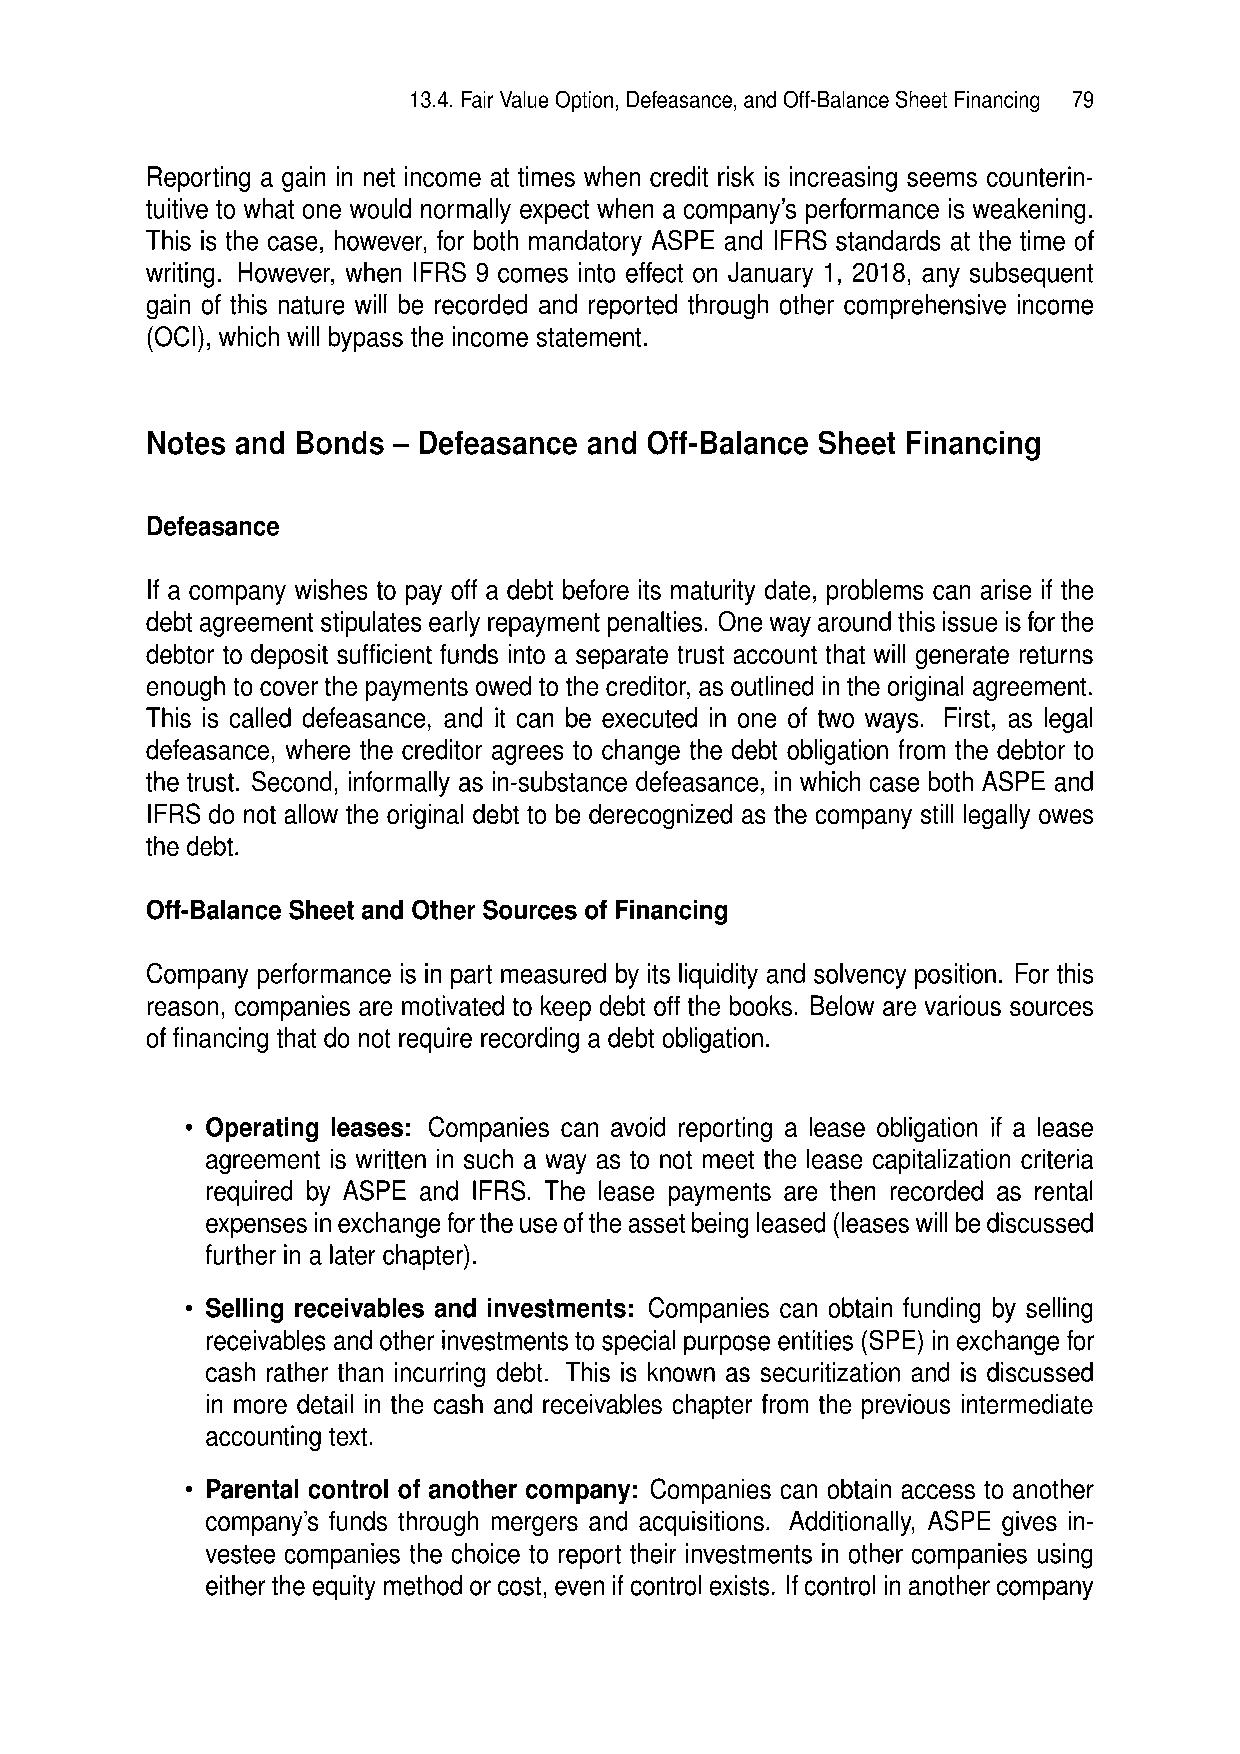chapter: (144, 424, 1041, 464), (144, 895, 729, 933), (408, 85, 1045, 117), (146, 513, 285, 544)
content: (144, 960, 1099, 1606), (144, 574, 1098, 864), (144, 158, 1096, 358)
content_pagenumber: (1066, 85, 1095, 113)
